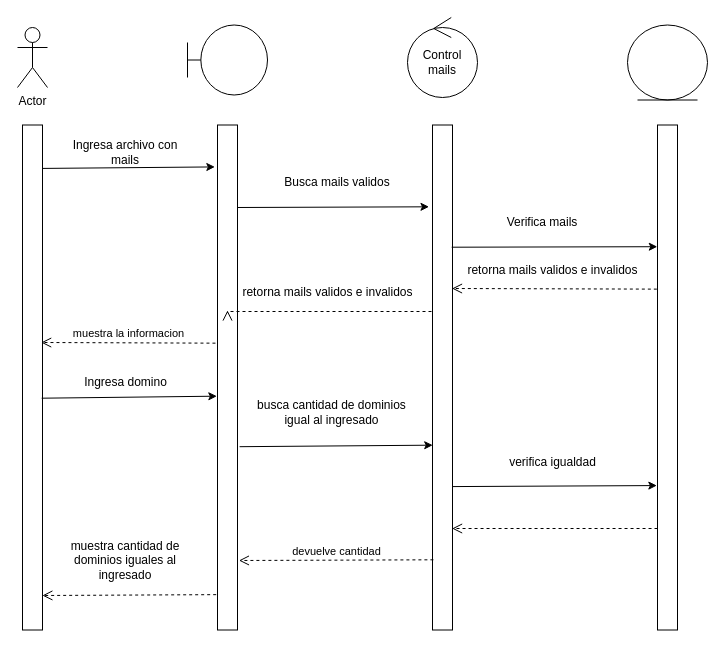
Some shapes in this 725 by 648 pixel diagram are drawn without their labels. The shapes that lost their labels are listed below. From the top down, each one's centre as x and y in pixels, then its label:
At [227,59]: "Interfaz".
At [667,62]: "mails".
